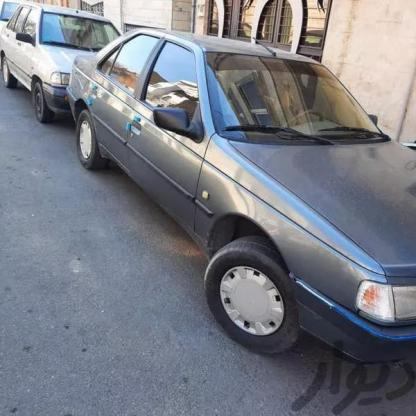Car: (64, 34, 416, 364), (0, 0, 107, 111)
